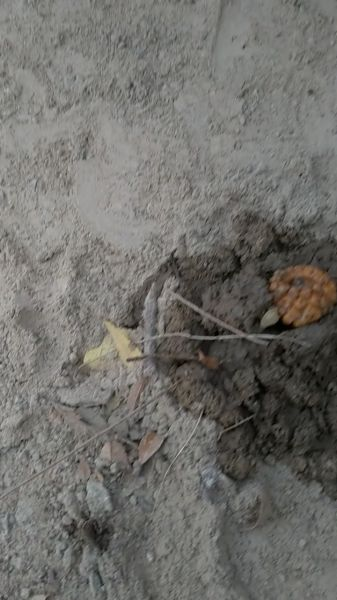eggs: (262, 262, 337, 328)
